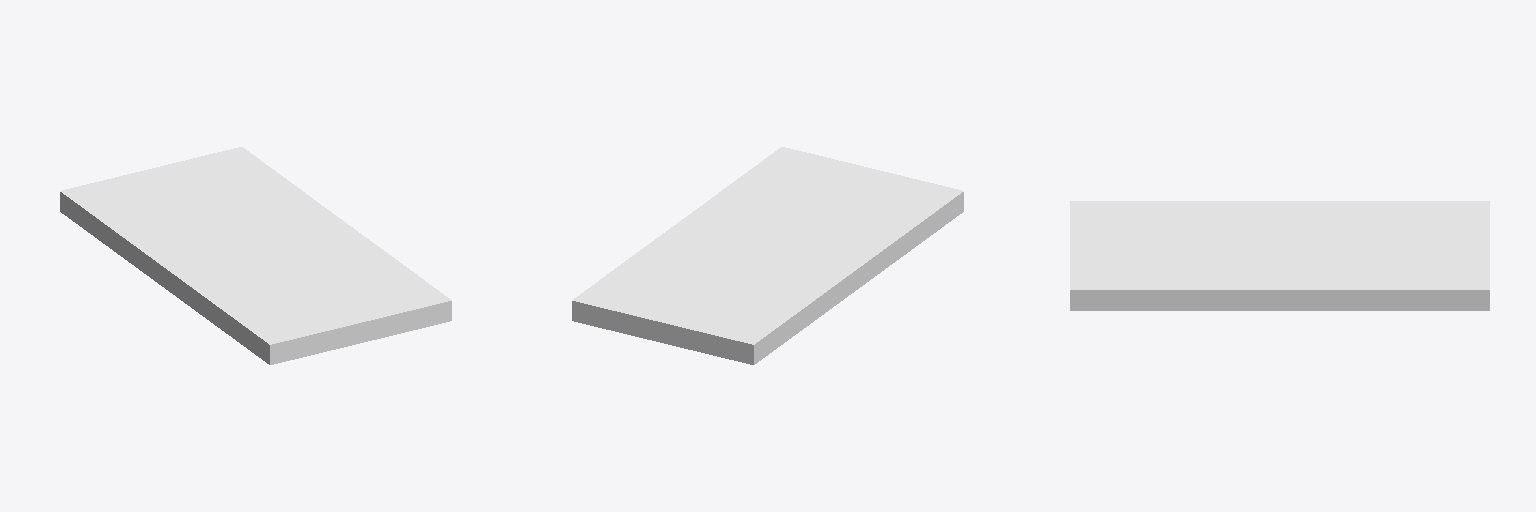
Rendered from road_lines_mid.obj.
3 renders of one model, left to right at view 1: azimuth 30°, elevation 25°; view 2: azimuth 150°, elevation 25°; view 3: azimuth 270°, elevation 25°, orthographic.
Parts seen in each view (by area): view 1: SM_Env_Road_03_Mesh.002; view 2: SM_Env_Road_03_Mesh.002; view 3: SM_Env_Road_03_Mesh.002.
Boxes of the visible parts, <box> form: SM_Env_Road_03_Mesh.002: <box>60,147,451,364</box>; SM_Env_Road_03_Mesh.002: <box>572,147,963,364</box>; SM_Env_Road_03_Mesh.002: <box>1070,201,1489,310</box>.
Bounding box in the file's own units: 0.025 × 0.0027 × 0.05.